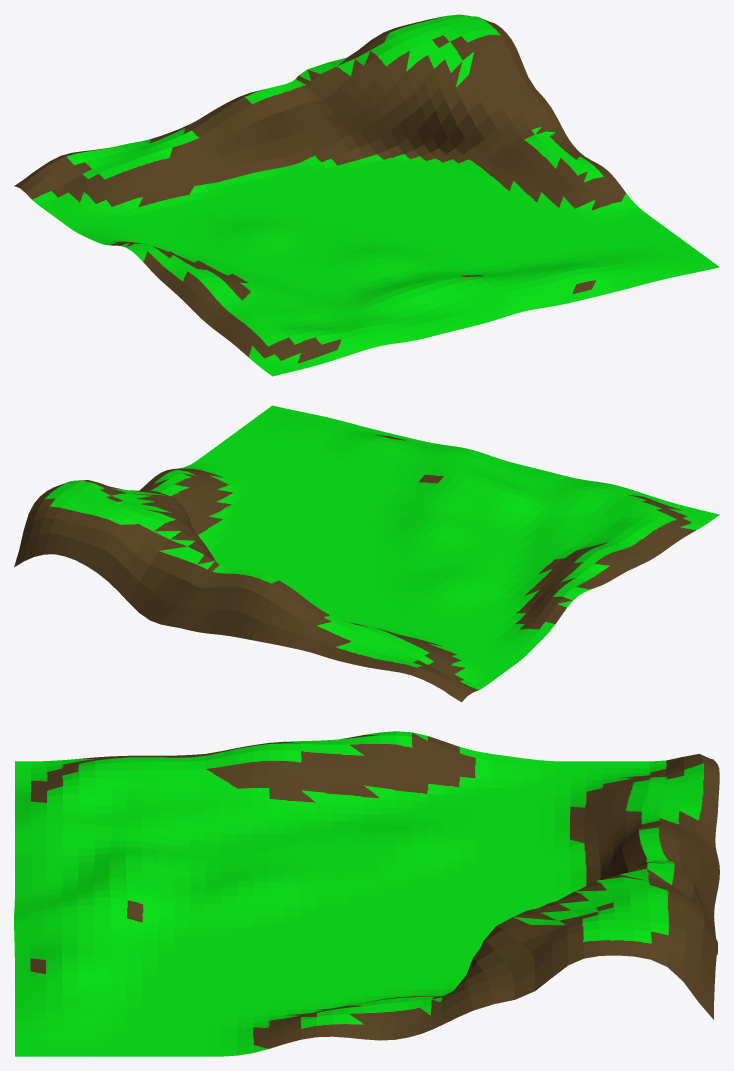
File: spawn.glb
3 views of the same model, one above another, from view 1: azimuth 30°, elevation 25°; view 2: azimuth 150°, elevation 25°; view 3: azimuth 270°, elevation 25° (orthographic). The views are drawn at different scales.
Visible parts, largest first — view 1: Plane; view 2: Plane; view 3: Plane.
Part boxes in pixels (x1=…): Plane: x1=14, y1=14, x2=719, y2=376; Plane: x1=14, y1=405, x2=719, y2=702; Plane: x1=14, y1=731, x2=719, y2=1056.
Bounding box in the file's own units: 20.17 × 3.66 × 20.21.
Materials: 1 (1 with a texture image).
